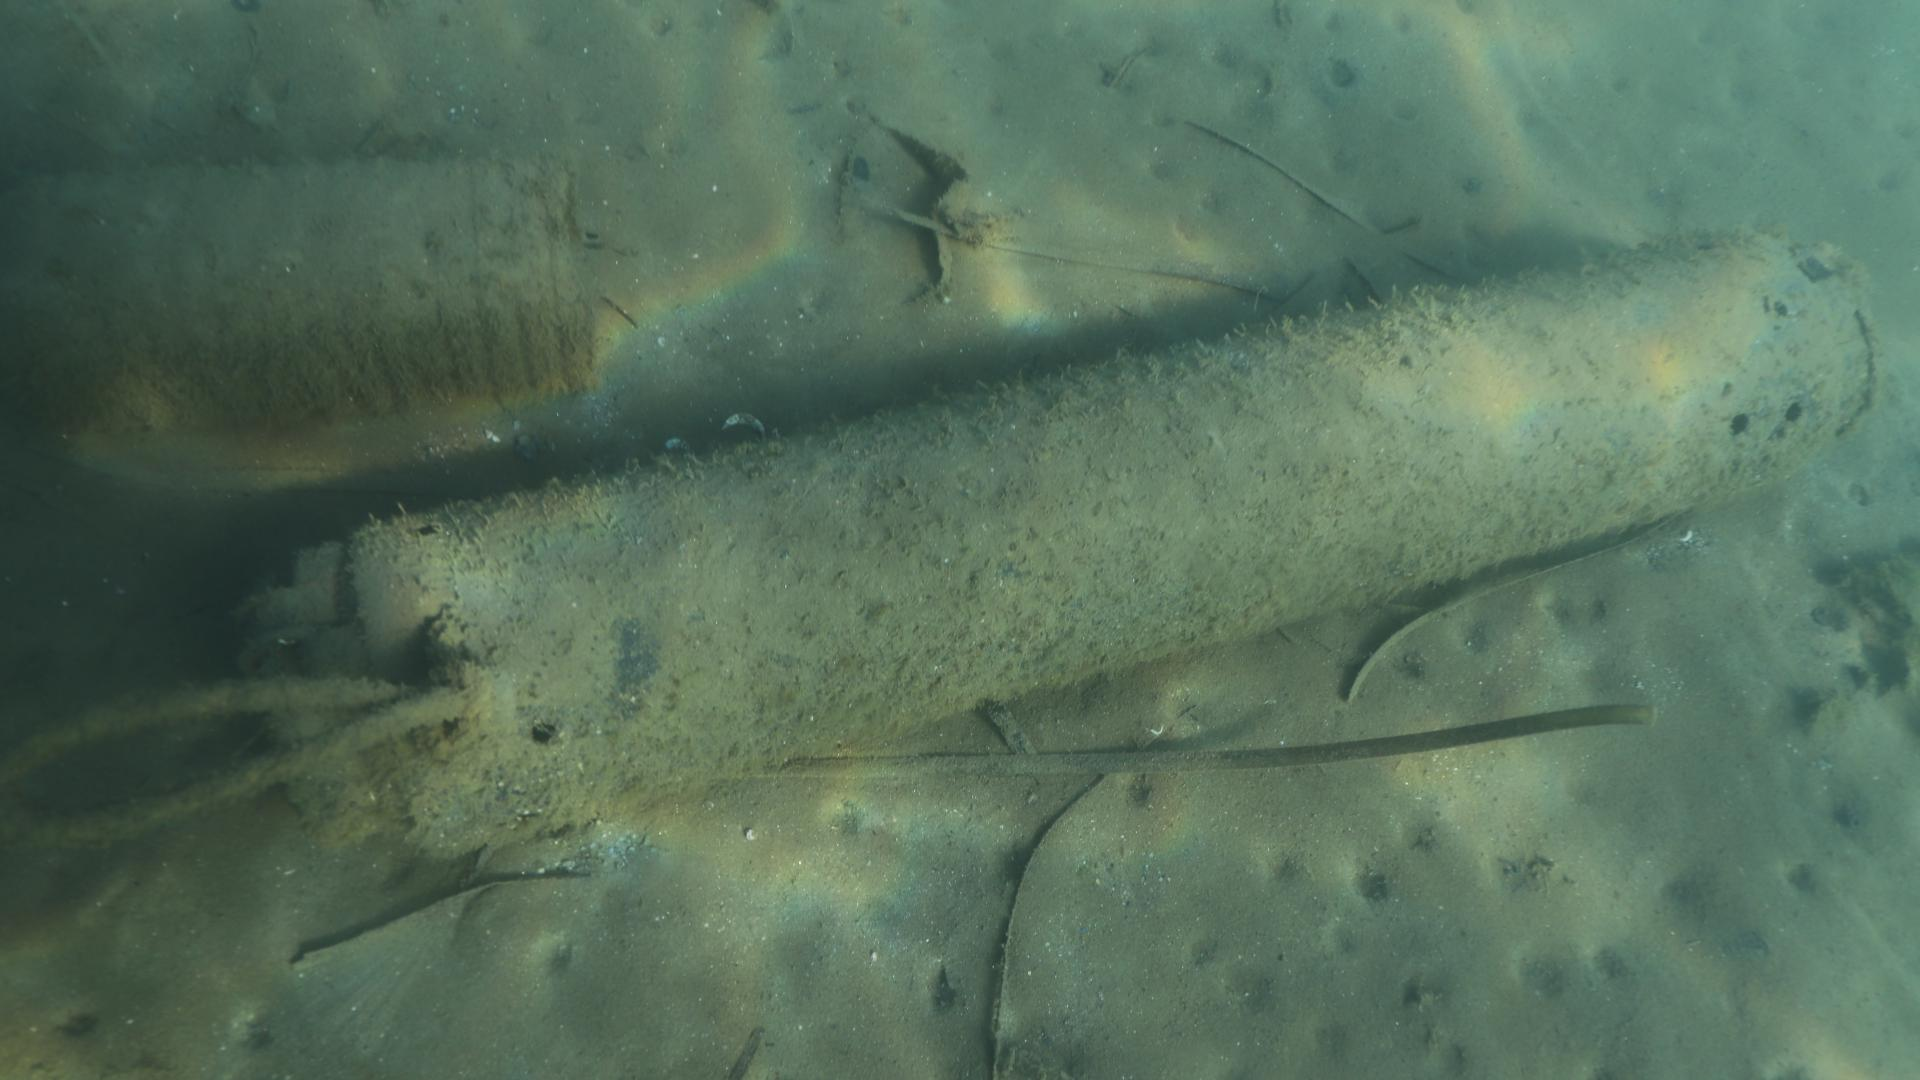eel fish trap: (235, 233, 1883, 866)
rope: (0, 659, 491, 856)
